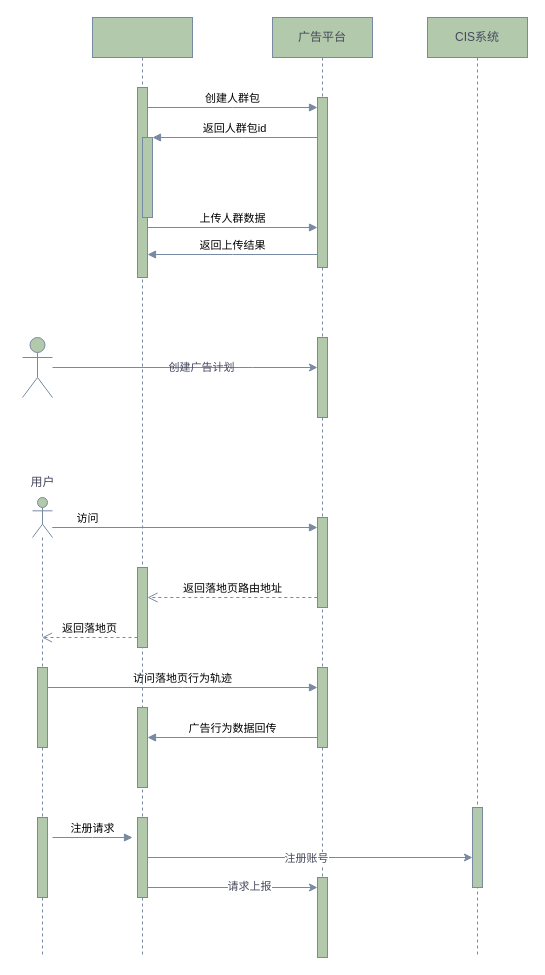
This 545x975 diagram has some shape labels left out. The box of each missing label's shape, as (x1, y1, x2, y2) in pixels:
信息流系统: (92, 16, 192, 958)
运营: (22, 336, 52, 398)
